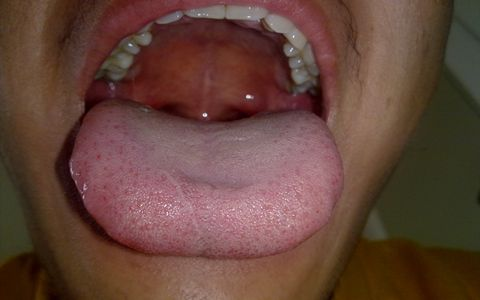baitaishe: (70, 98, 343, 259)
hongdianshe: (93, 149, 102, 161)
piweiao: (163, 153, 274, 209)
